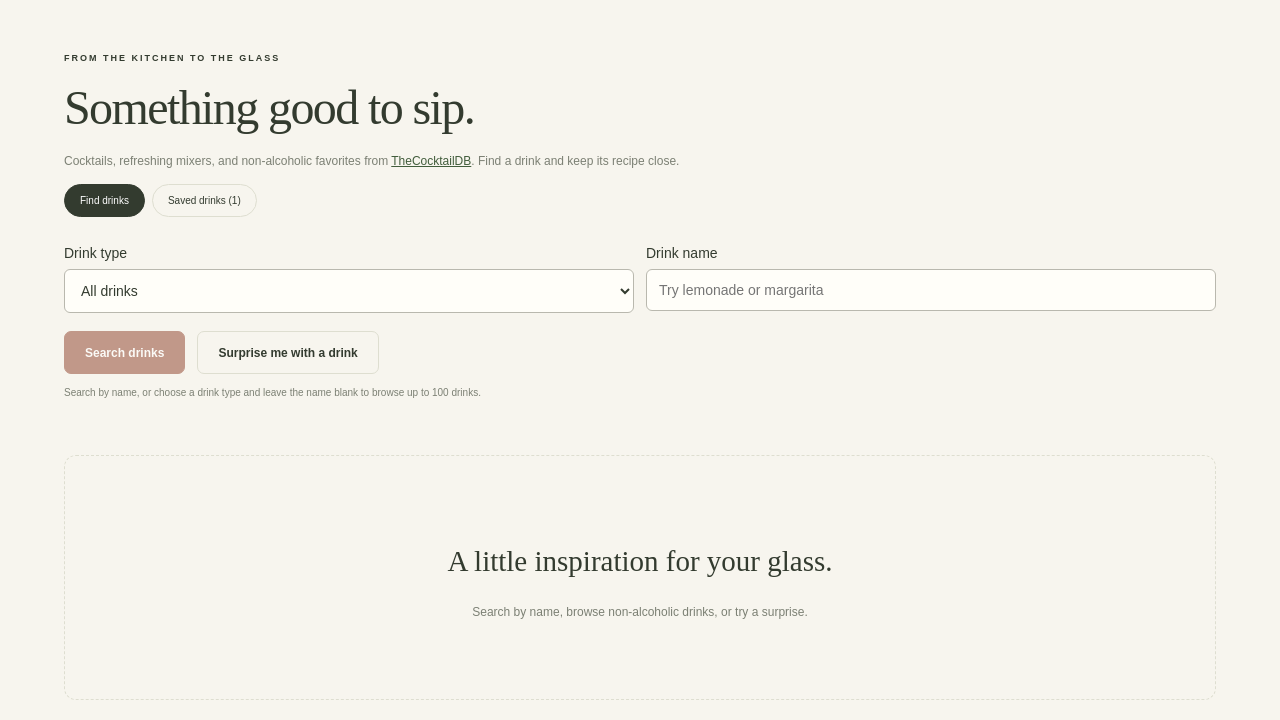
Test: saved collection opens offline, filters ingredients, and confirms removal
The width and height of the screenshot is (1280, 720).
Click the button "Saved drinks (1)".
click(204, 200)  # box [152, 184, 257, 217]
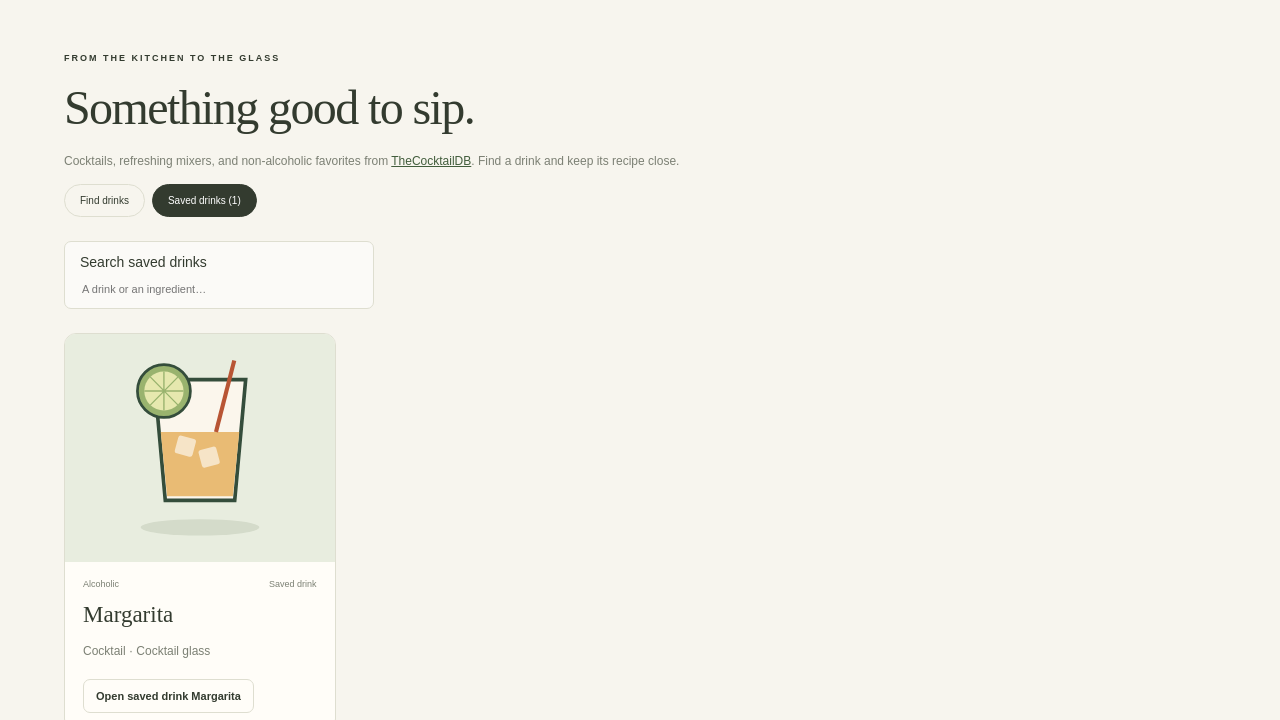
Type "tequila" into the field labelled "Search saved drinks".
click(219, 289); type("tequila")  # box [80, 282, 358, 296]
Click the button "Open saved drink Margarita".
click(168, 696)  # box [83, 679, 254, 713]
(page scrolled)
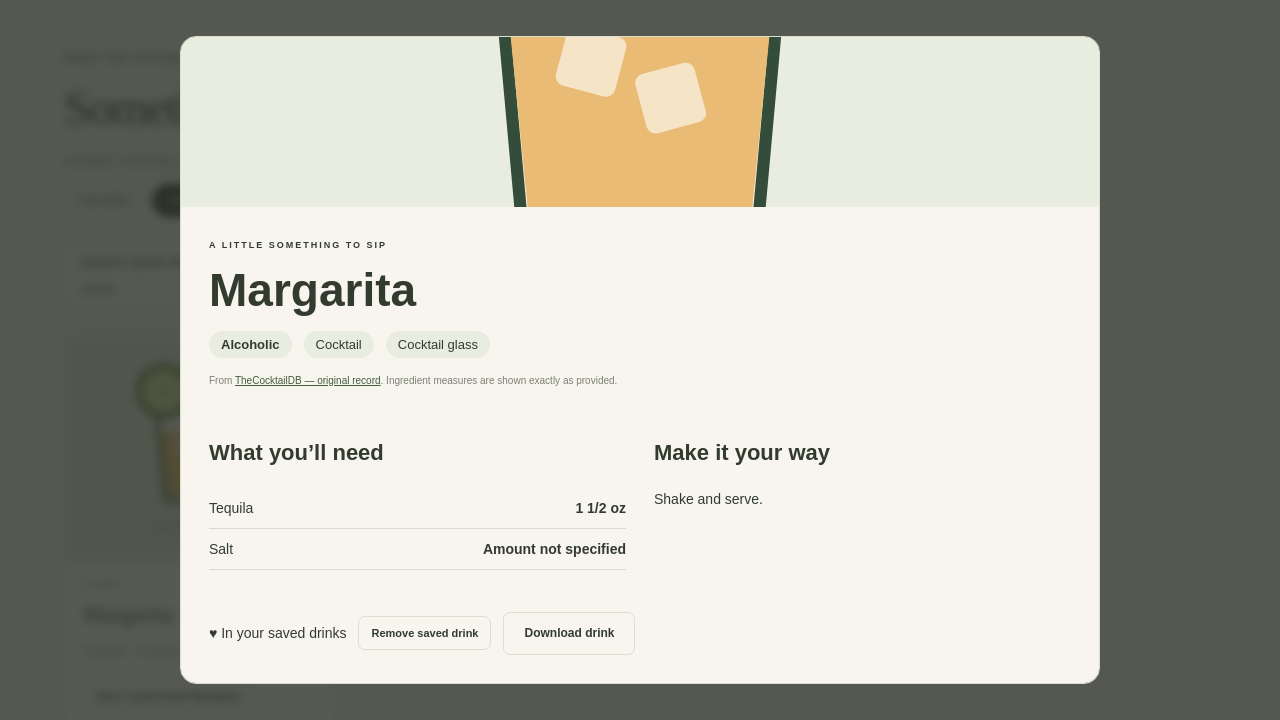
Click the button "Remove saved drink".
click(425, 633)  # box [358, 616, 492, 650]
(page scrolled)
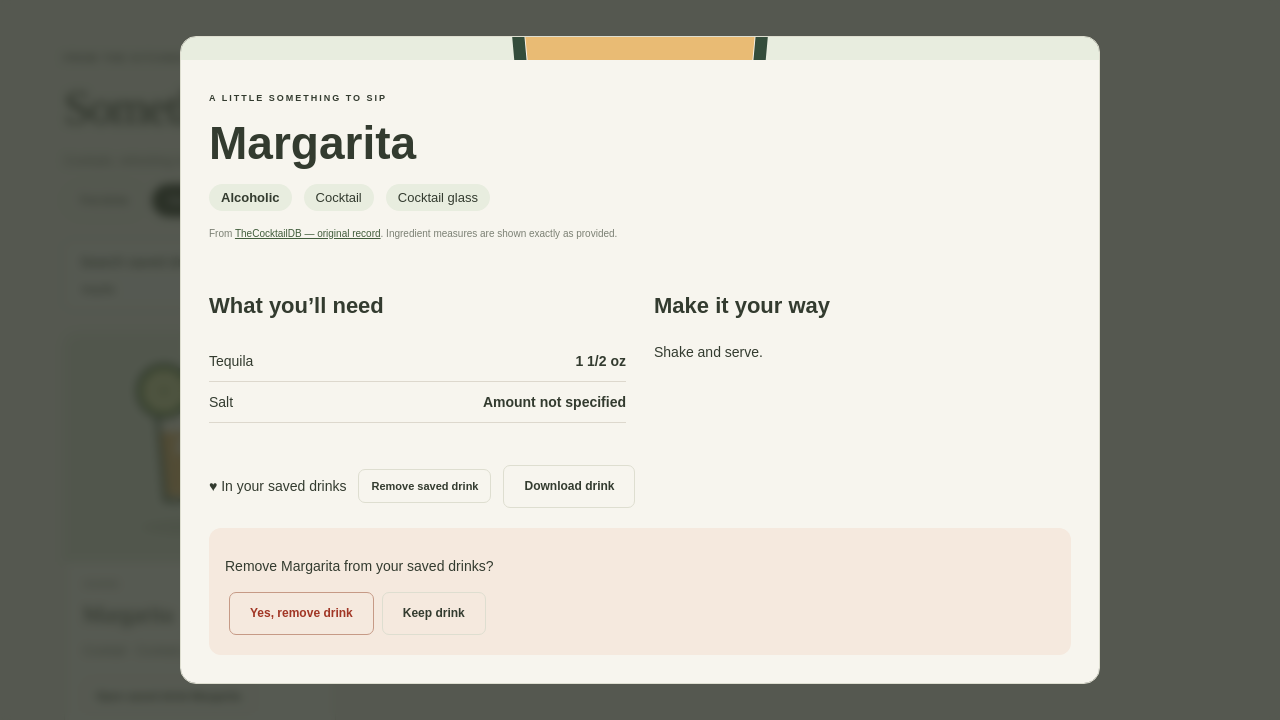
Click the button "Keep drink".
click(434, 613)  # box [382, 592, 486, 634]
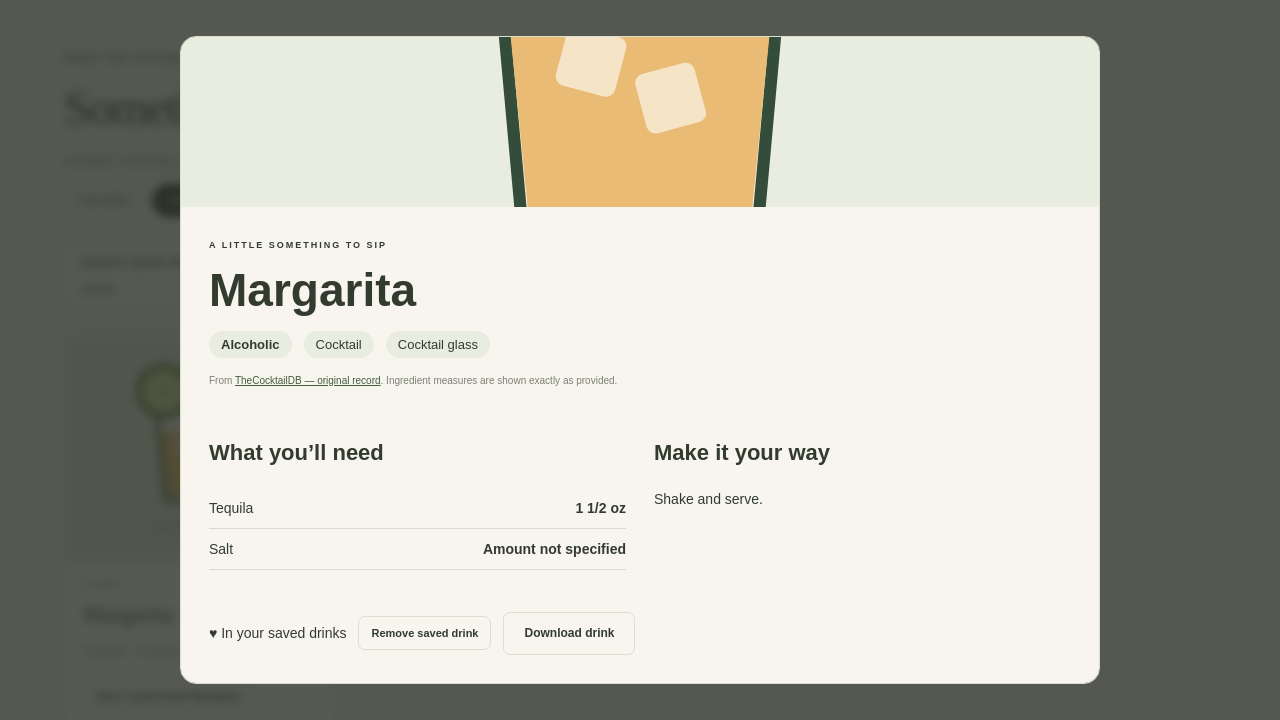
Expected: the button "Yes, remove drink" is gone
Click the button "Remove saved drink".
click(425, 633)  # box [358, 616, 492, 650]
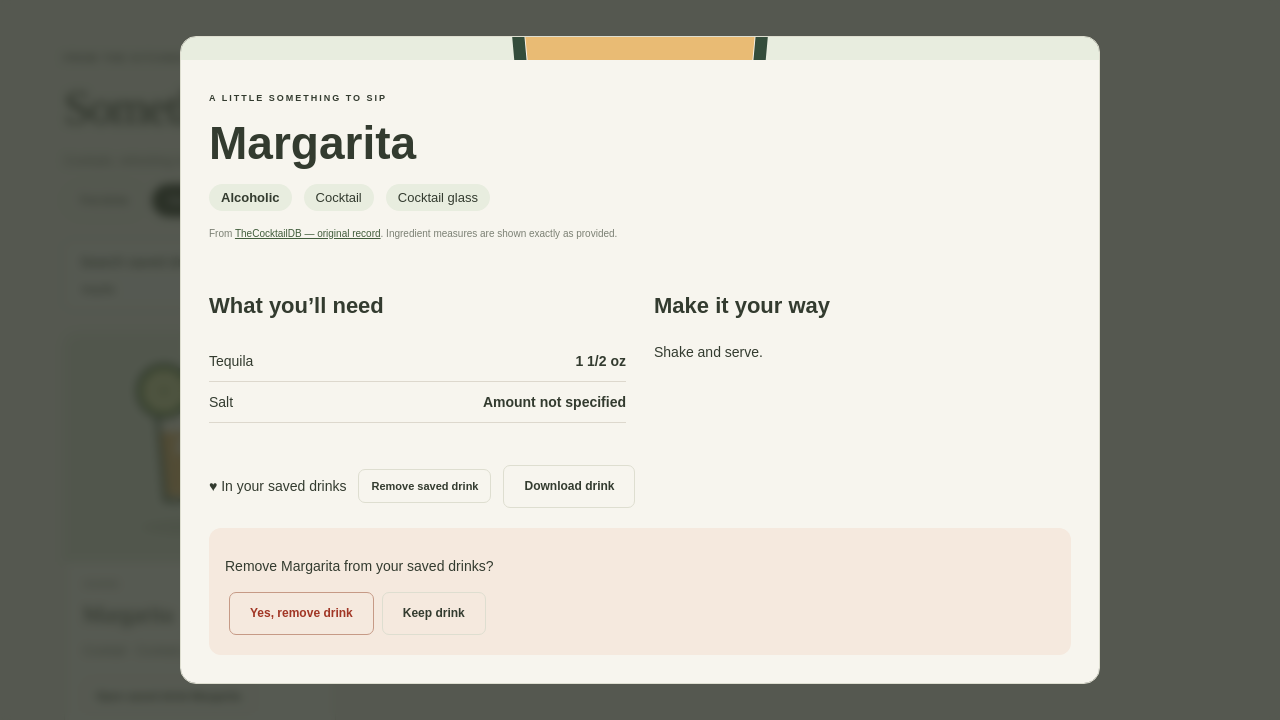
Click the button "Yes, remove drink".
click(301, 613)  # box [229, 592, 374, 634]
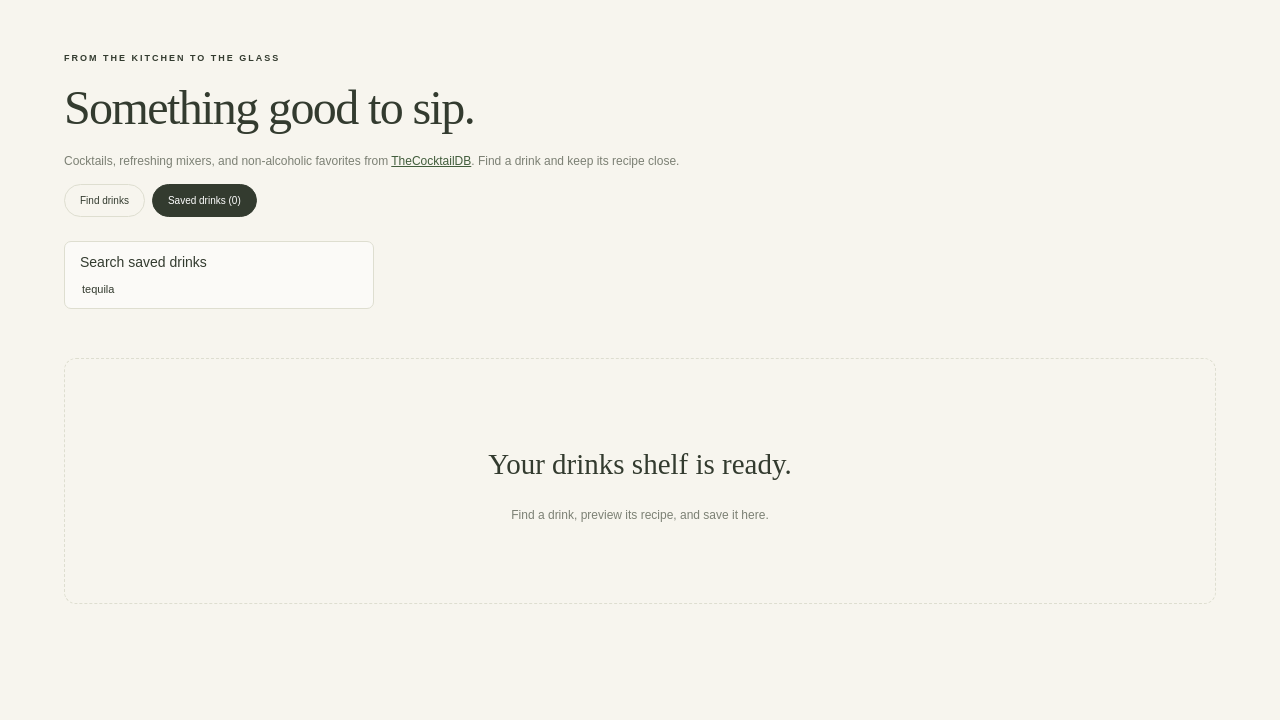
Expected: the heading "Your drinks shelf is ready." is shown, [488, 448, 792, 480]
